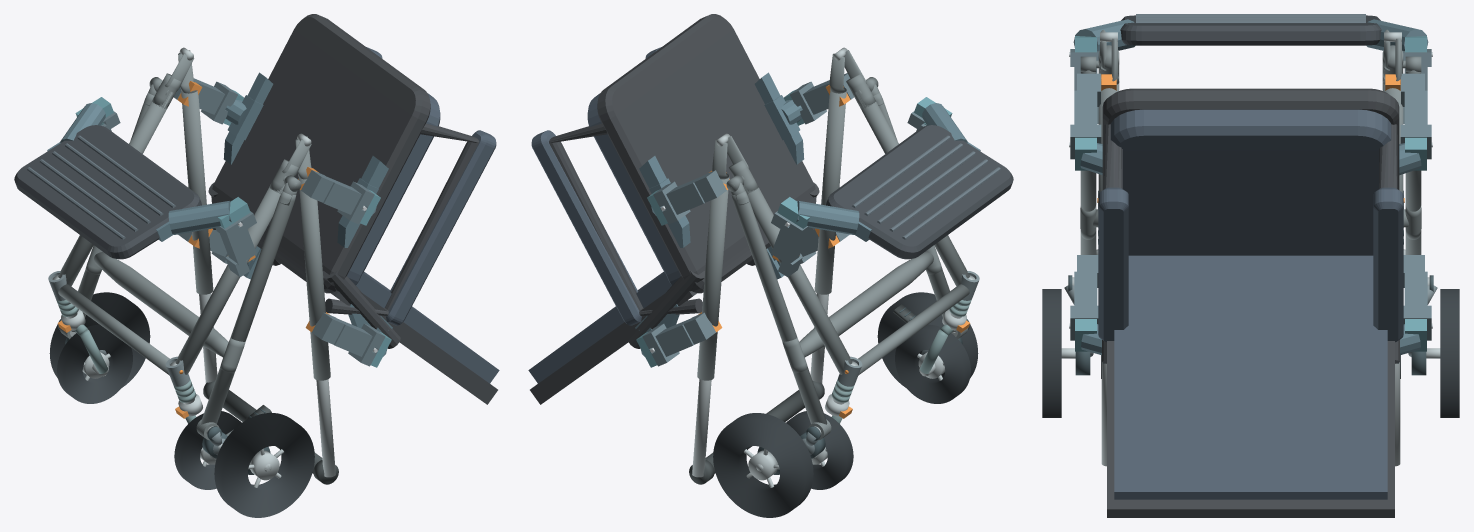
File: S08_w550_state3_wheel_S.glb
3 renders of one model, left to right at view 1: azimuth 30°, elevation 25°; view 2: azimuth 150°, elevation 25°; view 3: azimuth 270°, elevation 25°, orthographic. The views are drawn at different scales.
Visible parts, largest first — view 1: S08_Cabin, S08_Cabin_Footrest, RL_tire.002, FR_tire.002, V46_rear_leg_-1.003, S08_Cabin_Footrest_LowDocks, main_upper_-1.003, V46_rearbar.003, main_upper_1.003, main_lower_-1.003, RR_tire.002, FL_tire.002 (+13 smaller); view 2: S08_Cabin, S08_Cabin_Footrest, RR_tire.002, FL_tire.002, V46_rear_leg_1.003, S08_Cabin_Footrest_LowDocks, main_upper_1.003, V46_rearbar.003, main_upper_-1.003, main_lower_1.003, FR_tire.002, RL_tire.002 (+14 smaller); view 3: S08_Cabin, S08_Cabin_Footrest, RL_tire.002, RR_tire.002, S08_Cabin_Footrest_LowDocks, S08_Cabin_Mount_M, Universal_Cabin_Receiver_M_-1, Universal_Cabin_Receiver_M_1, S08_Cabin_HighDocks, Universal_Cabin_Receiver_H_1, Universal_Cabin_Receiver_H_-1, V46_rear_leg_1.003 (+3 smaller).
Part boxes in pixels (bbox=[...]): S08_Cabin: bbox=[208, 14, 499, 404]; S08_Cabin_Footrest: bbox=[14, 125, 201, 259]; RL_tire.002: bbox=[214, 413, 314, 517]; FR_tire.002: bbox=[57, 324, 132, 403]; V46_rear_leg_-1.003: bbox=[200, 191, 296, 424]; S08_Cabin_Footrest_LowDocks: bbox=[47, 97, 250, 241]; main_upper_-1.003: bbox=[298, 176, 330, 380]; V46_rearbar.003: bbox=[94, 252, 228, 357]; main_upper_1.003: bbox=[181, 90, 213, 294]; main_lower_-1.003: bbox=[175, 185, 284, 374]; RR_tire.002: bbox=[49, 292, 150, 387]; FL_tire.002: bbox=[174, 411, 241, 489]; S08_Cabin: bbox=[528, 14, 819, 404]; S08_Cabin_Footrest: bbox=[826, 125, 1013, 259]; RR_tire.002: bbox=[713, 413, 813, 517]; FL_tire.002: bbox=[895, 324, 970, 403]; V46_rear_leg_1.003: bbox=[731, 191, 827, 424]; S08_Cabin_Footrest_LowDocks: bbox=[777, 97, 980, 241]; main_upper_1.003: bbox=[697, 175, 729, 380]; V46_rearbar.003: bbox=[799, 252, 933, 357]; main_upper_-1.003: bbox=[814, 89, 846, 294]; main_lower_1.003: bbox=[743, 185, 852, 374]; FR_tire.002: bbox=[786, 411, 853, 489]; RL_tire.002: bbox=[877, 292, 978, 387]; S08_Cabin: bbox=[1098, 88, 1403, 517]; S08_Cabin_Footrest: bbox=[1120, 14, 1381, 45]; RL_tire.002: bbox=[1042, 289, 1061, 417]; RR_tire.002: bbox=[1440, 289, 1459, 417]; S08_Cabin_Footrest_LowDocks: bbox=[1069, 19, 1432, 56]; S08_Cabin_Mount_M: bbox=[1069, 137, 1432, 175]; Universal_Cabin_Receiver_M_-1: bbox=[1070, 73, 1101, 159]; Universal_Cabin_Receiver_M_1: bbox=[1400, 73, 1431, 159]; S08_Cabin_HighDocks: bbox=[1069, 319, 1432, 363]; Universal_Cabin_Receiver_H_1: bbox=[1403, 255, 1431, 340]; Universal_Cabin_Receiver_H_-1: bbox=[1070, 255, 1098, 340]; V46_rear_leg_1.003: bbox=[1405, 73, 1421, 254].
Size of the model in its own units: 0.8244 by 0.7585 by 0.6471.
